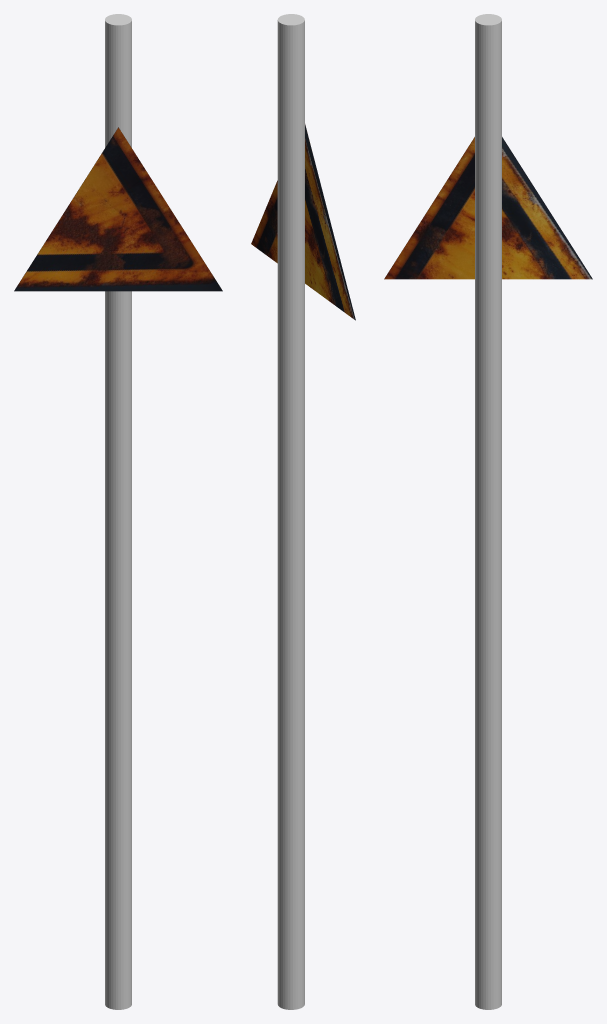
The model's file is CartelWarning.fbx.
The picture shows the model from 3 angles, left to right: view 1: azimuth 90°, elevation 25°; view 2: azimuth 210°, elevation 25°; view 3: azimuth 270°, elevation 25°; orthographic projection.
Parts seen in each view (by area): view 1: Cylinder.002; view 2: Cylinder.002; view 3: Cylinder.002.
Part boxes in pixels (box(x1,y1,x2,y2)): Cylinder.002: box(14, 14, 222, 1009); Cylinder.002: box(251, 14, 355, 1009); Cylinder.002: box(384, 14, 592, 1009).
Size of the model in its own units: 10.29 by 400 by 76.87.
Materials: 2 (1 with a texture image).
